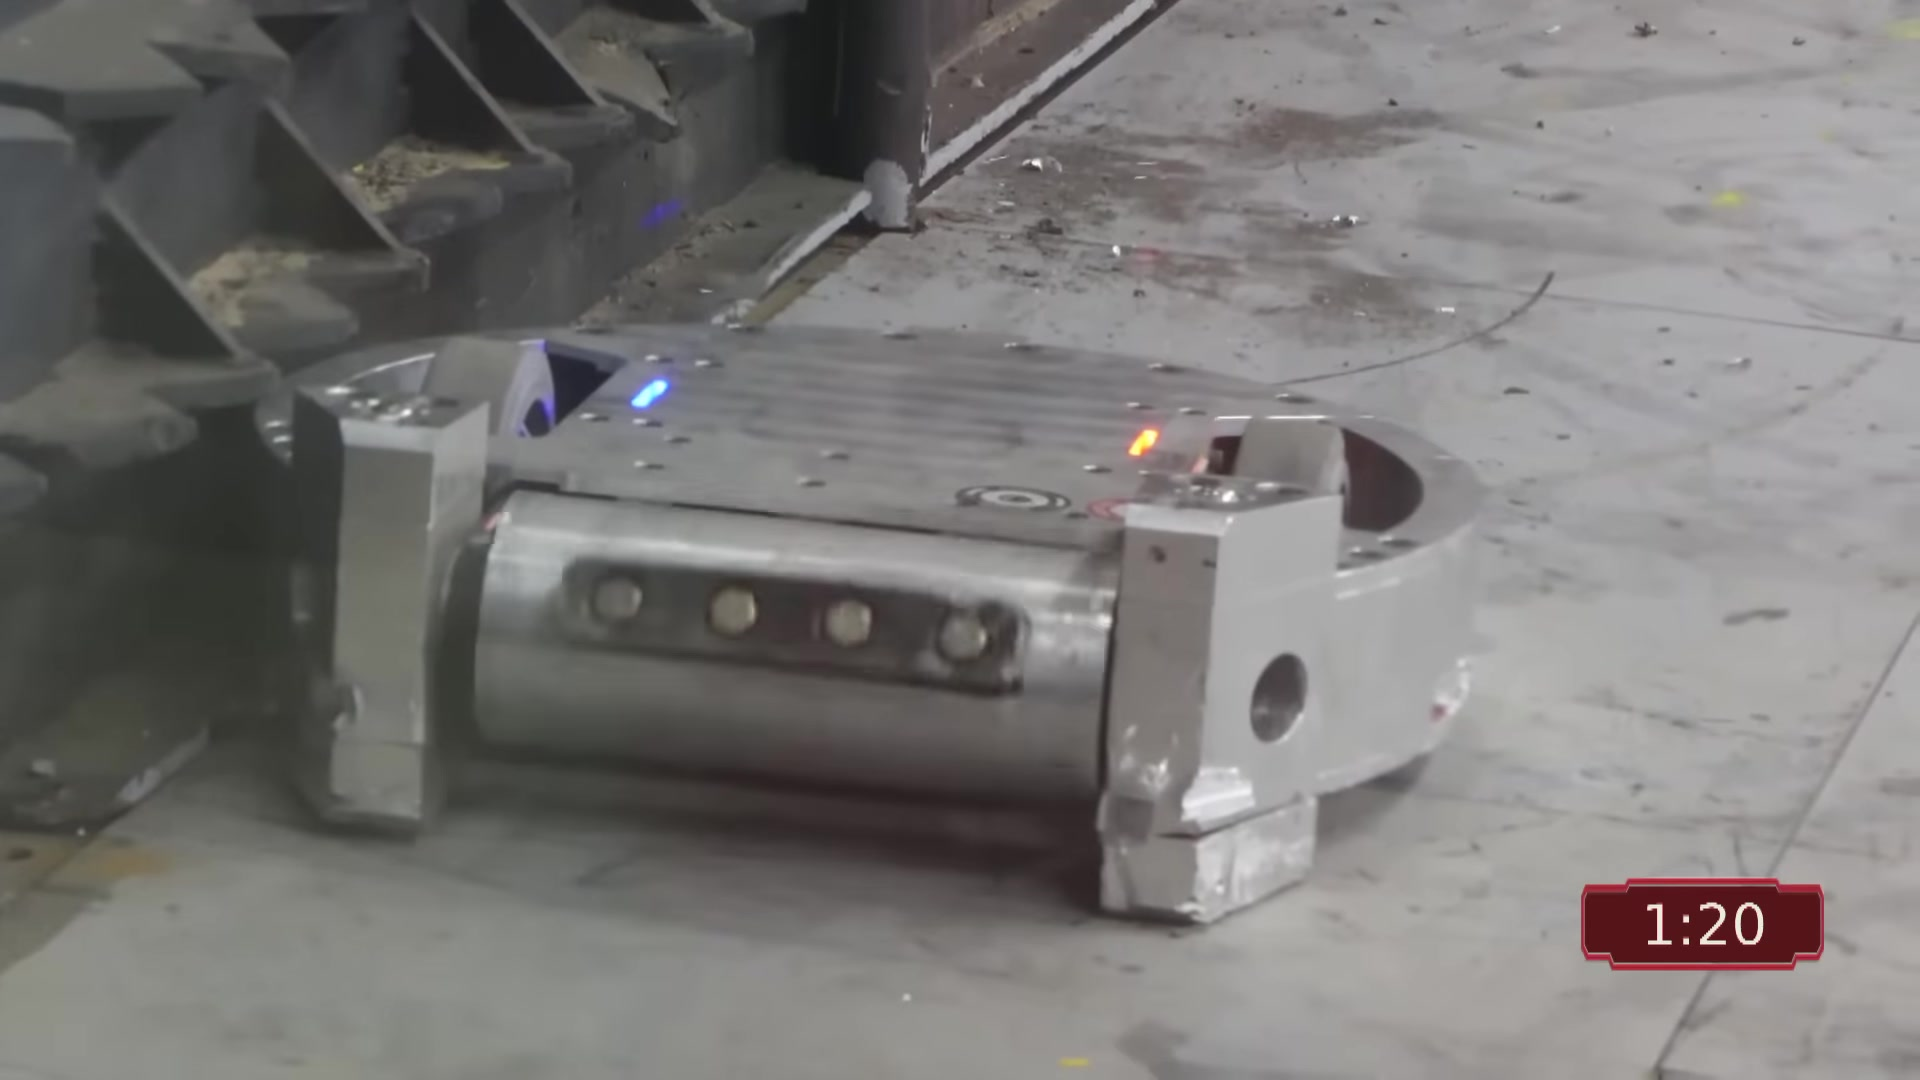combatbot: (257, 328, 1472, 922)
